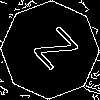Z: (25, 25, 80, 79)
